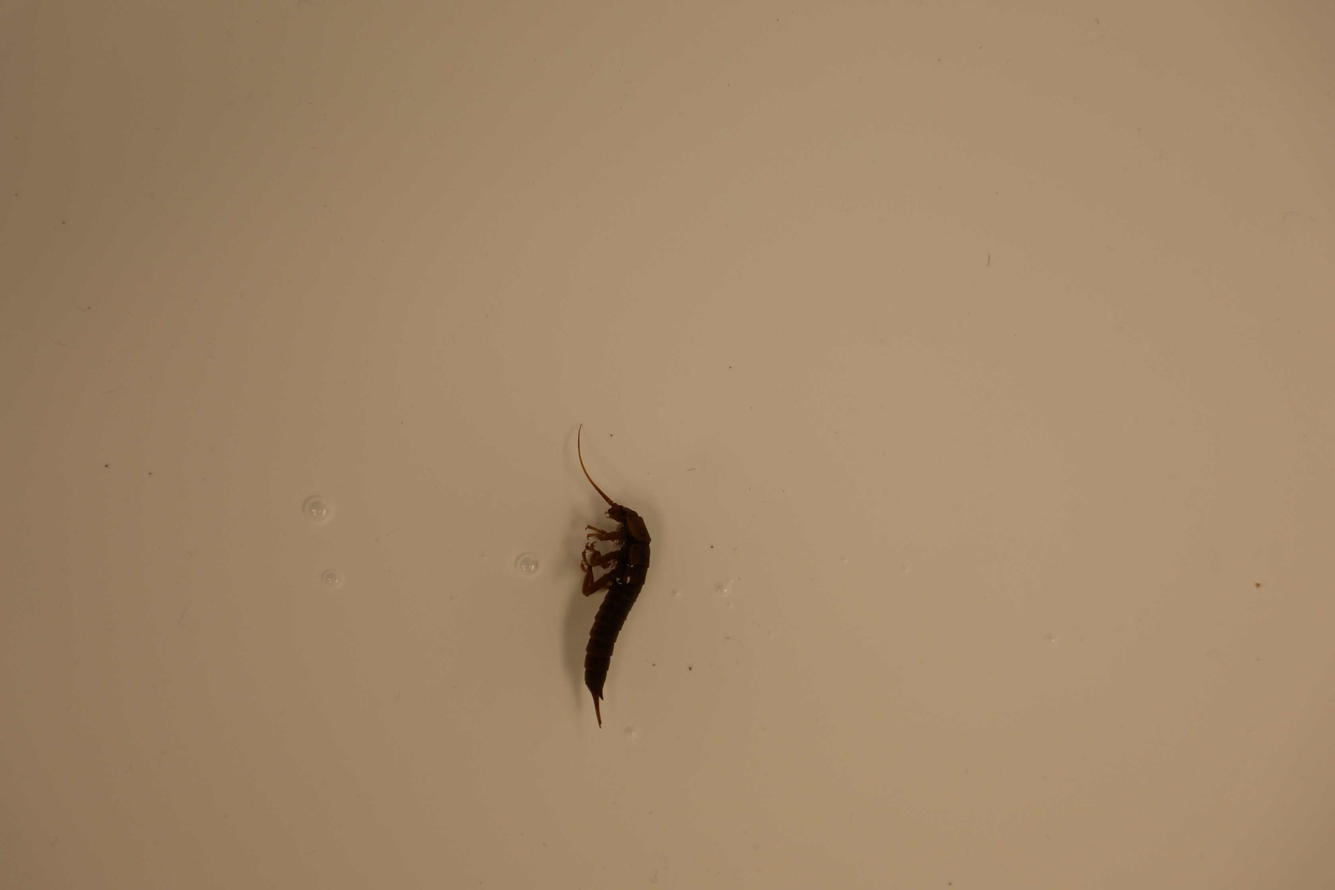Stonefly: (548, 421, 652, 736)
